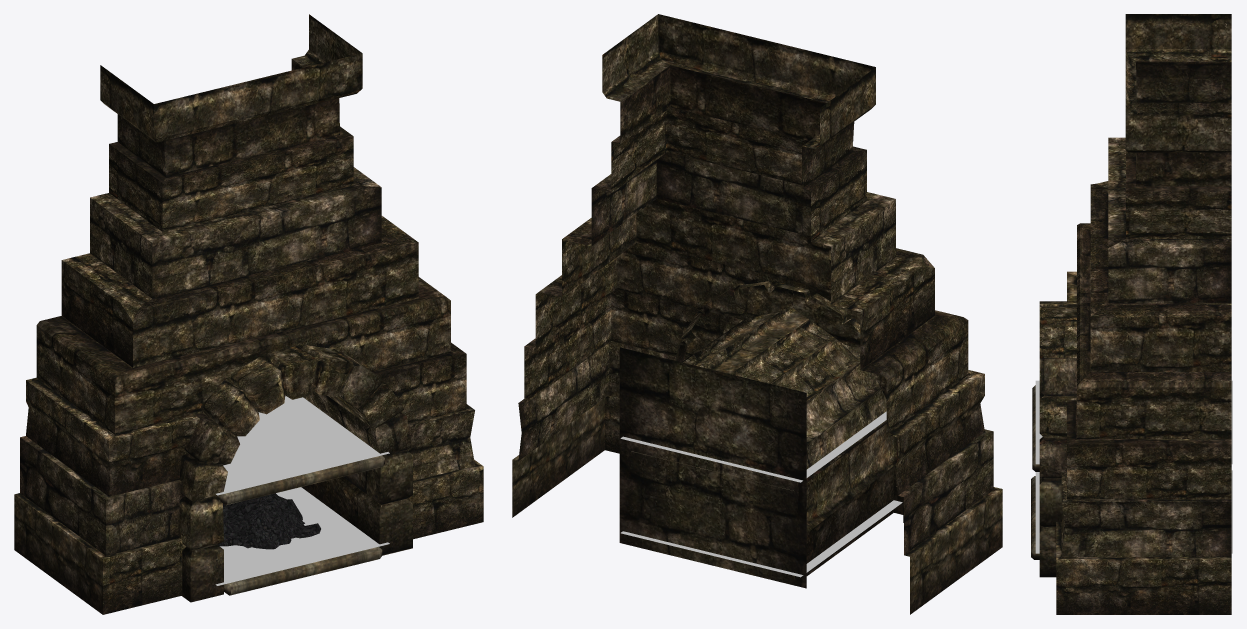
The model's file is stove_dungeon_front01.dae.
3 views of the same model, side by side, from view 1: azimuth 30°, elevation 25°; view 2: azimuth 150°, elevation 25°; view 3: azimuth 270°, elevation 25° (orthographic). The views are drawn at different scales.
Parts seen in each view (by area): view 1: stove_dungeon_front01, pPlane5, pPlane3, coal_pile01; view 2: stove_dungeon_front01, pPlane1, pPlane3, pPlane5; view 3: stove_dungeon_front01, pPlane5, pPlane3.
Boxes of the visible parts, box(x1,y1,x2,y2) form: stove_dungeon_front01: box(14, 14, 483, 614); pPlane5: box(216, 395, 389, 495); pPlane3: box(216, 487, 389, 585); coal_pile01: box(218, 493, 320, 549); stove_dungeon_front01: box(512, 14, 1002, 614); pPlane1: box(619, 347, 806, 588); pPlane3: box(621, 500, 902, 576); pPlane5: box(620, 411, 886, 482); stove_dungeon_front01: box(1031, 14, 1231, 614); pPlane5: box(1035, 380, 1232, 463); pPlane3: box(1035, 470, 1232, 553).
Bounding box in the file's own units: 3.43 × 4 × 1.59.
